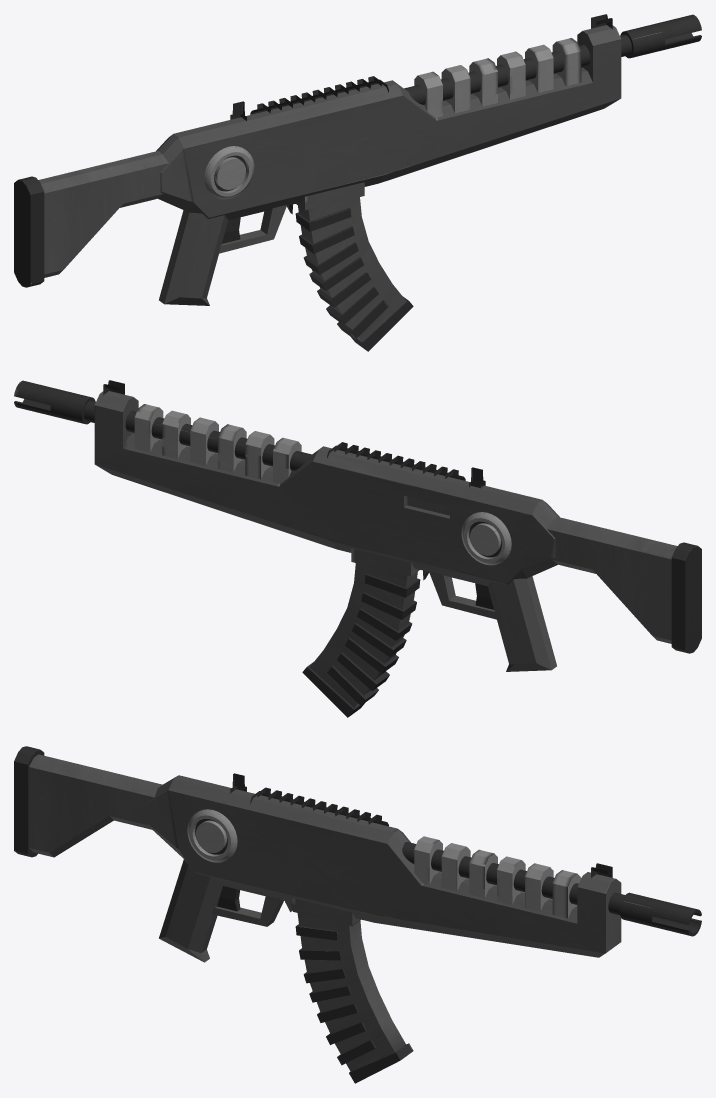
File: ARifle.fbx
3 renders of one model, top to bottom at view 1: azimuth 30°, elevation 25°; view 2: azimuth 150°, elevation 25°; view 3: azimuth 330°, elevation 25°, orthographic.
Visible parts, largest first — view 1: Gun, Magazine; view 2: Gun, Magazine; view 3: Gun, Magazine.
Boxes of the visible parts, <box> form: Gun: <box>14,14,701,305</box>; Magazine: <box>295,197,413,351</box>; Gun: <box>14,380,701,671</box>; Magazine: <box>302,563,420,717</box>; Gun: <box>14,746,701,962</box>; Magazine: <box>295,913,413,1083</box>.
Bounding box in the file's own units: 795 × 310 × 43.84.
1 material, 1 textured.
